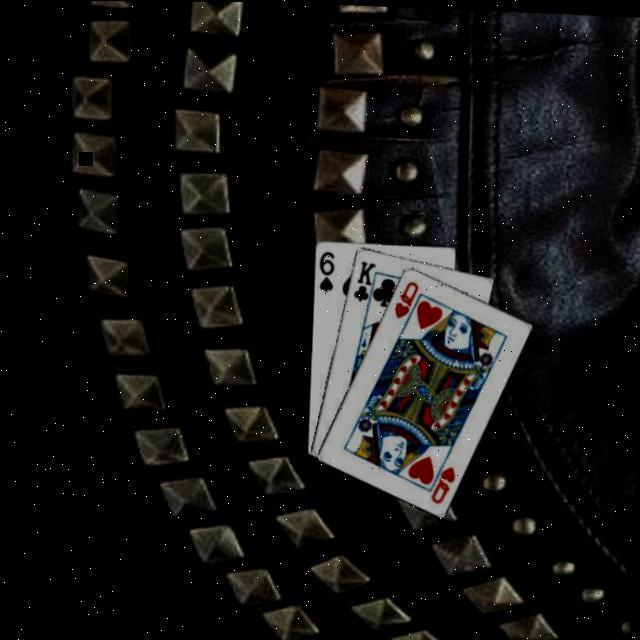6S: (316, 245, 338, 292)
KC: (351, 255, 383, 308)
QH: (426, 450, 460, 503), (393, 275, 424, 318)
